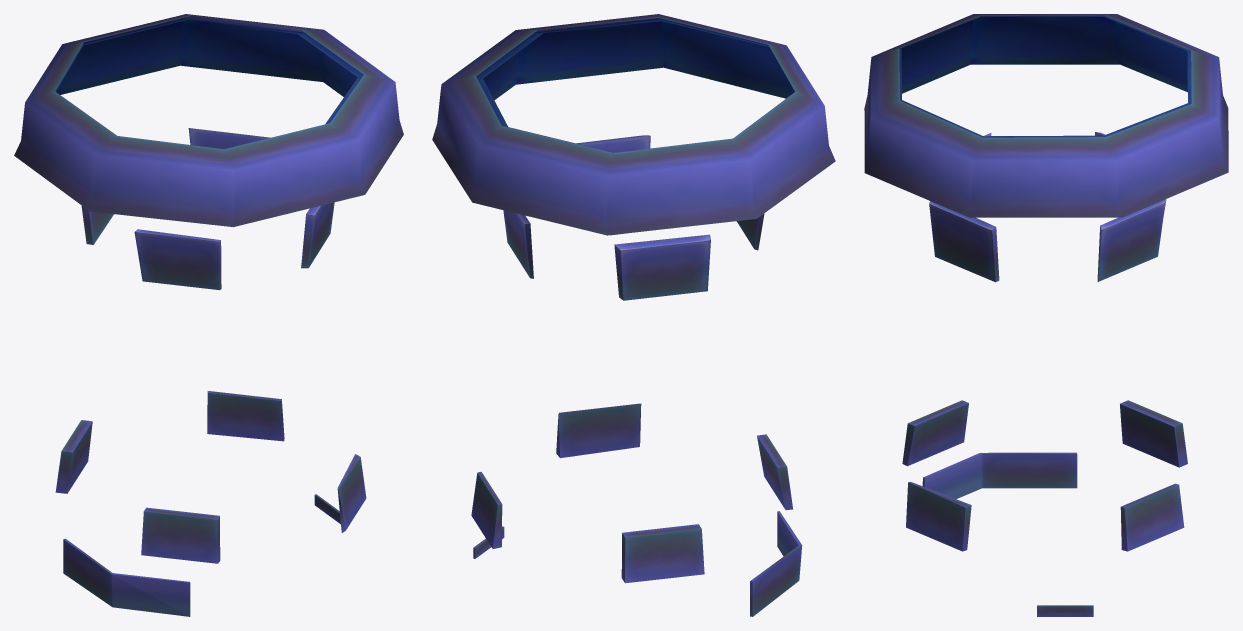
The model's file is octagonal_tower_100m_glass.DAE.
3 views of the same model, side by side, from view 1: azimuth 30°, elevation 25°; view 2: azimuth 150°, elevation 25°; view 3: azimuth 270°, elevation 25° (orthographic). The views are drawn at different scales.
Parts seen in each view (by area): view 1: Box03; view 2: Box03; view 3: Box03.
Part boxes in pixels (<box>): Box03: <box>14,14,403,616</box>; Box03: <box>432,14,835,616</box>; Box03: <box>864,14,1228,616</box>.
Size of the model in its own units: 62.53 by 89.76 by 62.25.
